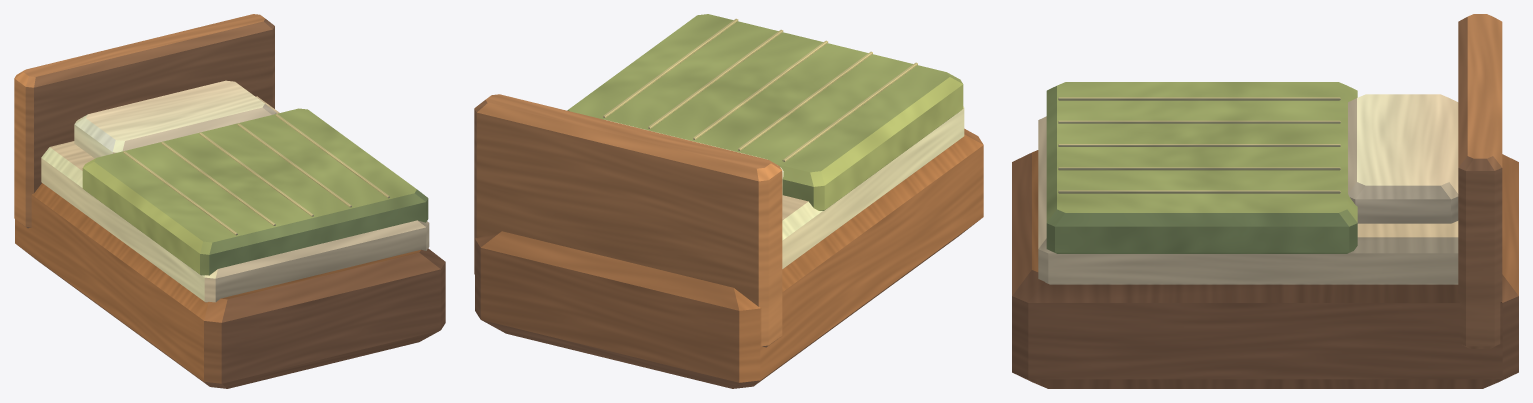
File: bedroom_bed.glb
The picture shows the model from 3 angles, left to right: view 1: azimuth 30°, elevation 25°; view 2: azimuth 150°, elevation 25°; view 3: azimuth 270°, elevation 25°; orthographic projection. The views are drawn at different scales.
Parts seen in each view (by area): view 1: Bett mit Steppdecke; view 2: Bett mit Steppdecke; view 3: Bett mit Steppdecke.
Part boxes in pixels (x1,y1,x2,y2): Bett mit Steppdecke: [14, 14, 445, 388]; Bett mit Steppdecke: [474, 14, 983, 388]; Bett mit Steppdecke: [1012, 14, 1518, 388].
Bounding box in the file's own units: 1.31 × 0.95 × 1.84.
2 materials, 2 textured.
